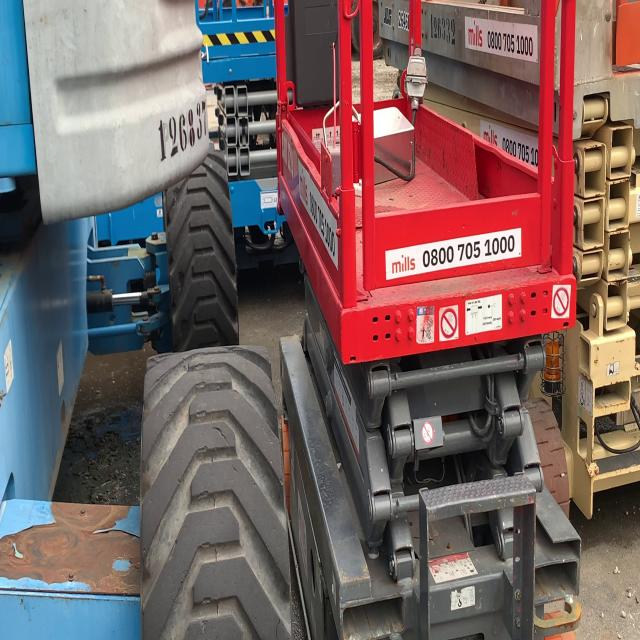Adesivo Longo: (384, 226, 522, 281), (298, 158, 338, 273)
